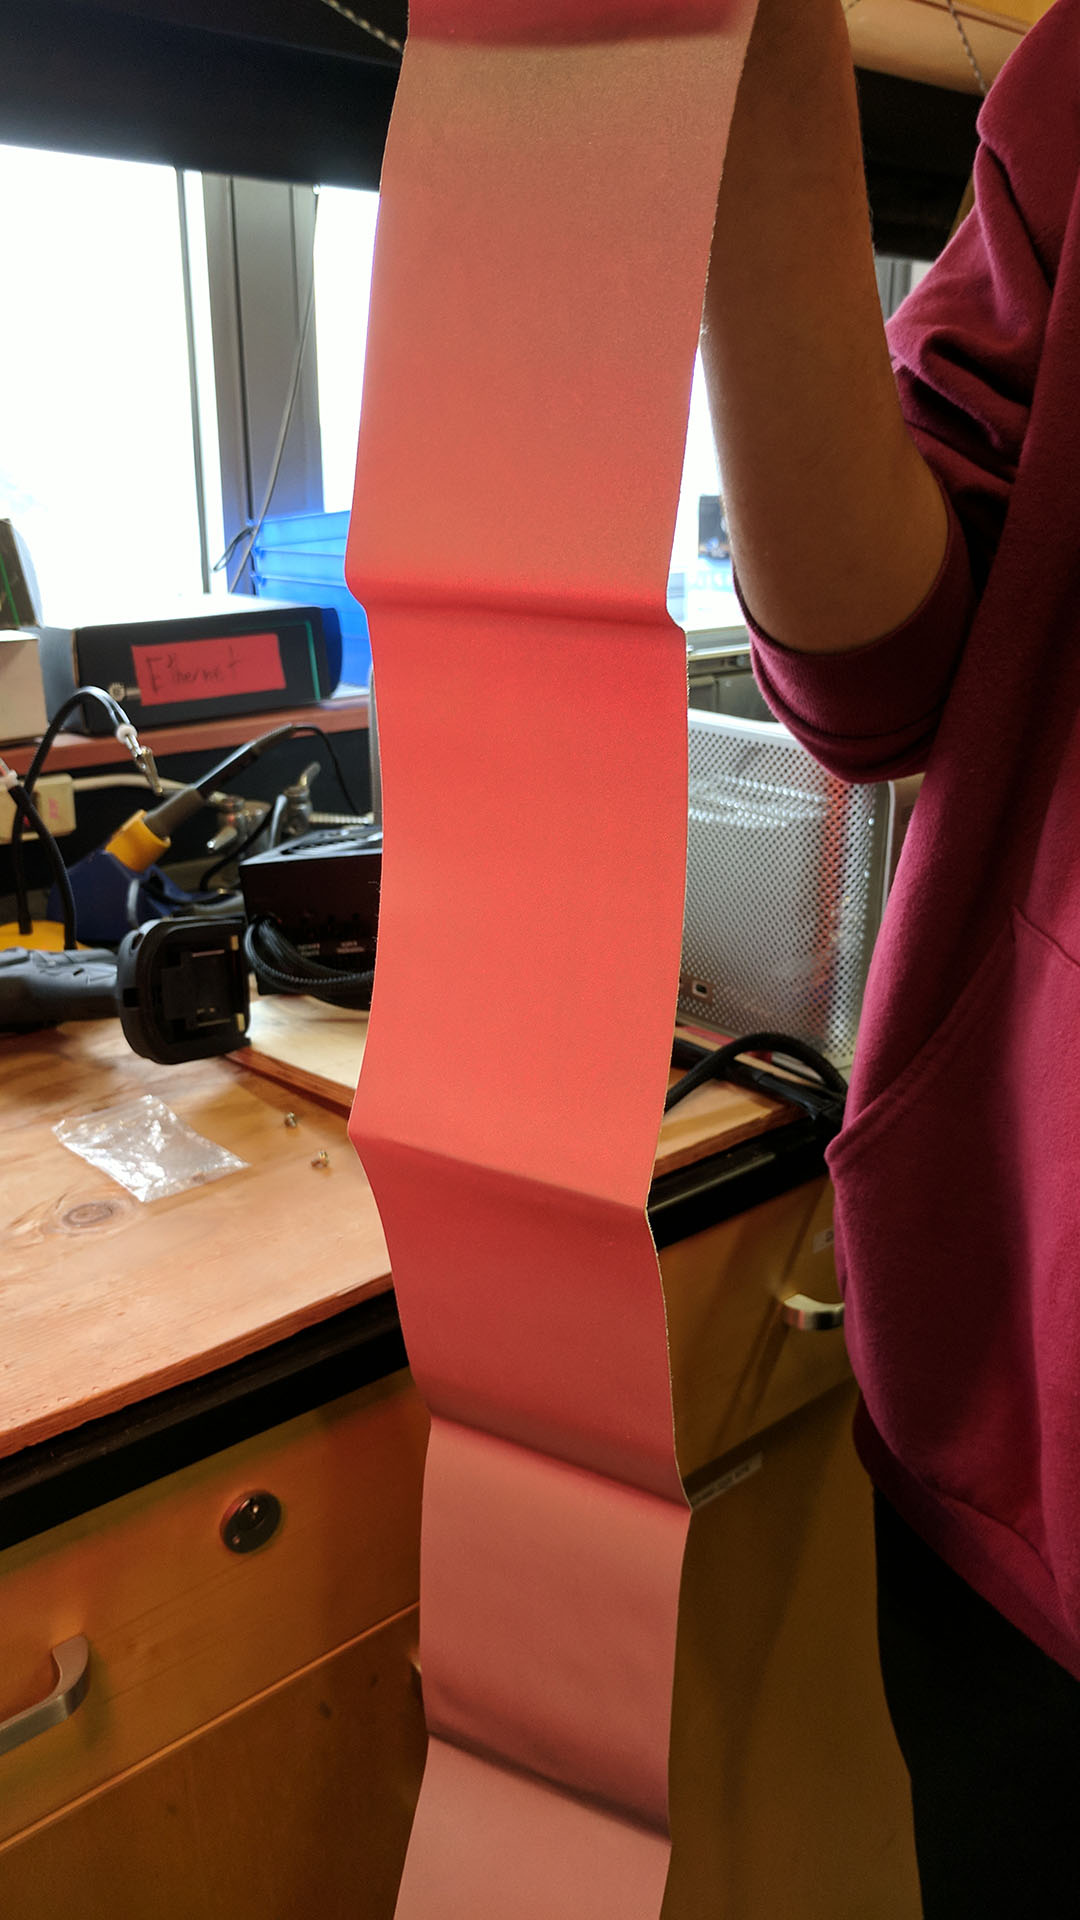gear: (344, 0, 712, 1920)
